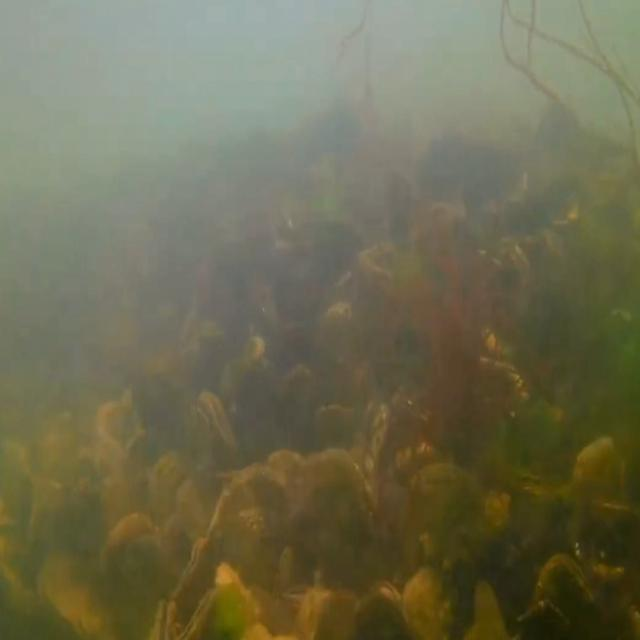Oyster-Closed: (178, 464, 311, 640), (533, 553, 601, 640), (352, 579, 413, 640), (182, 584, 248, 640)
Oyster-Indeterminate: (264, 448, 390, 640), (403, 464, 493, 636), (98, 512, 176, 640), (148, 451, 208, 590), (570, 437, 622, 565), (404, 566, 467, 640)
Oyster-Open: (186, 393, 240, 496), (360, 396, 389, 501), (146, 595, 178, 640)
